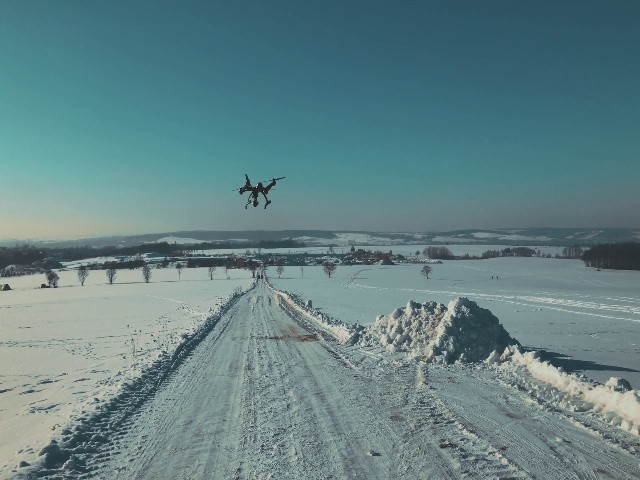drone: (231, 173, 286, 210)
